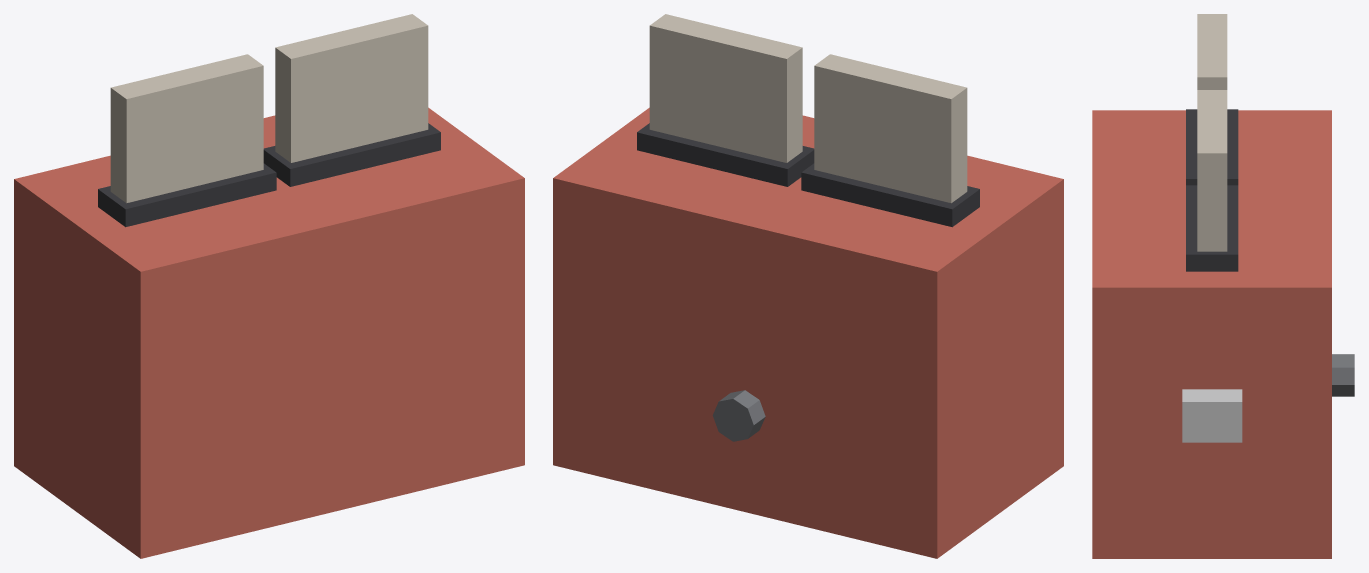
File: eld_torradeira2.glb
3 renders of one model, left to right at view 1: azimuth 30°, elevation 25°; view 2: azimuth 150°, elevation 25°; view 3: azimuth 270°, elevation 25°, orthographic. The views are drawn at different scales.
Parts seen in each view (by area): view 1: ELD_TORRADEIRA2_v01; view 2: ELD_TORRADEIRA2_v01; view 3: ELD_TORRADEIRA2_v01.
Boxes of the visible parts, box(x1,y1,x2,y2) form: ELD_TORRADEIRA2_v01: box(14, 14, 524, 558); ELD_TORRADEIRA2_v01: box(553, 14, 1063, 558); ELD_TORRADEIRA2_v01: box(1092, 14, 1354, 558).
Size of the model in its own units: 0.3 by 0.285 by 0.175.
